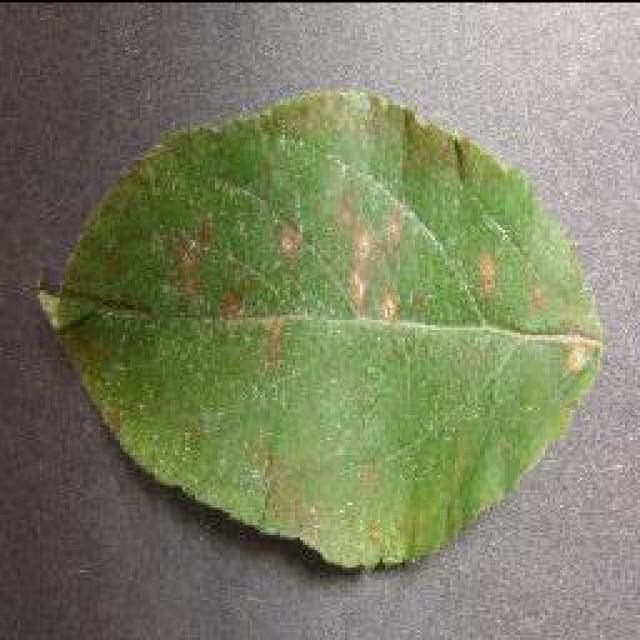apple healthy: (35, 82, 605, 572)
